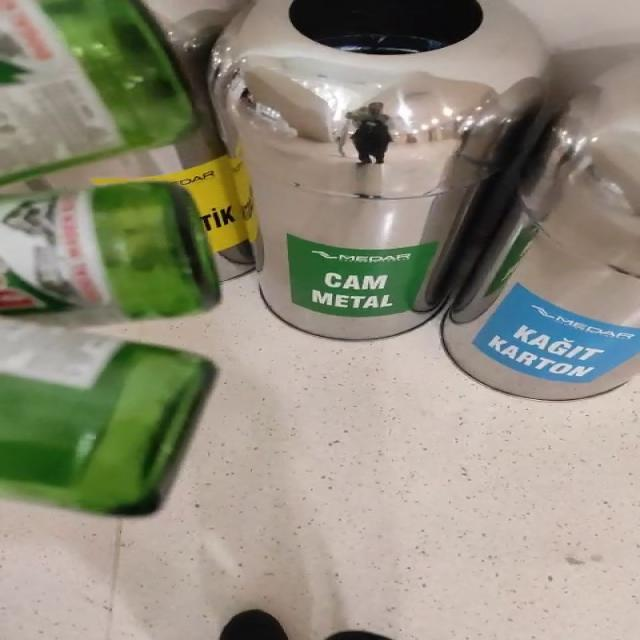bin: (211, 0, 548, 340)
glass: (3, 321, 213, 515), (0, 0, 193, 181), (0, 181, 219, 325)
